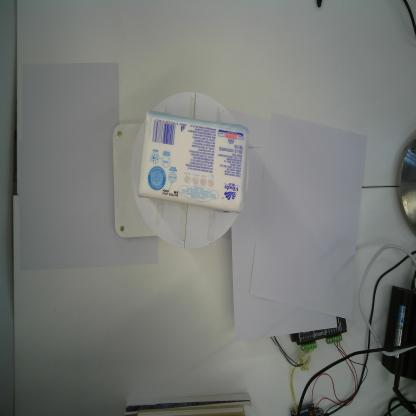Tissue: (136, 109, 250, 215)
